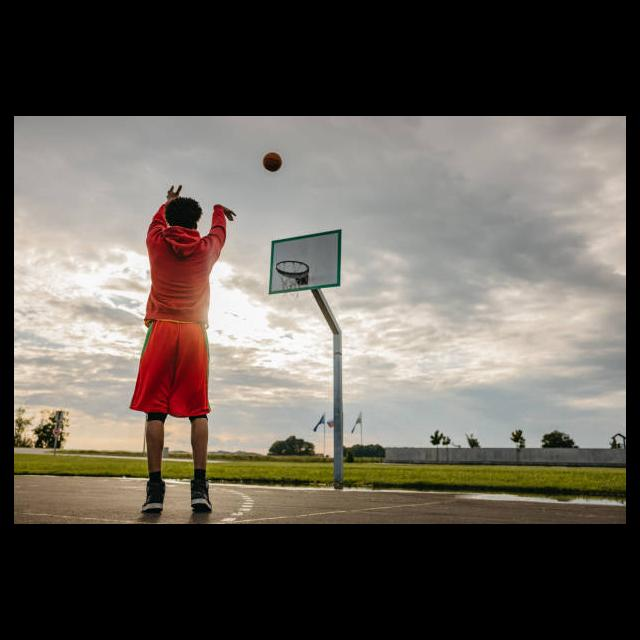basketball: (262, 152, 282, 172)
hoop: (276, 261, 309, 298)
